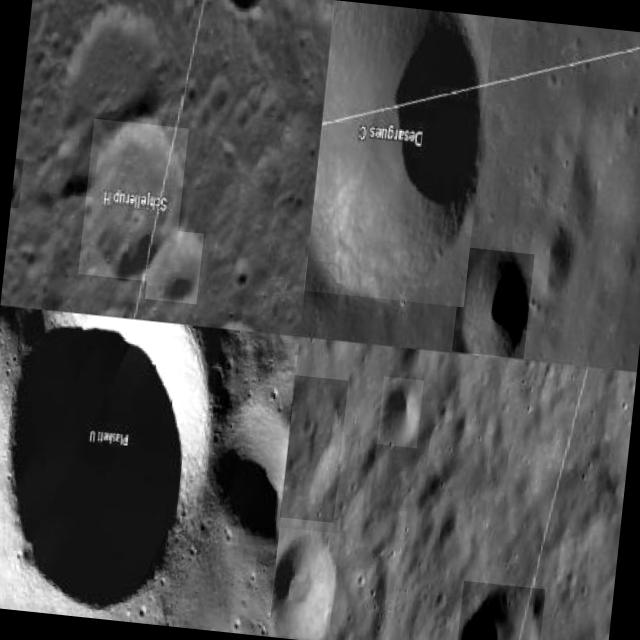crater: (0, 306, 221, 620), (303, 0, 494, 307), (78, 119, 188, 284), (200, 397, 290, 547), (279, 374, 348, 522), (452, 246, 534, 358), (267, 526, 340, 640), (455, 581, 545, 640), (144, 228, 203, 304), (376, 376, 424, 448), (218, 0, 270, 15), (10, 158, 23, 208)
